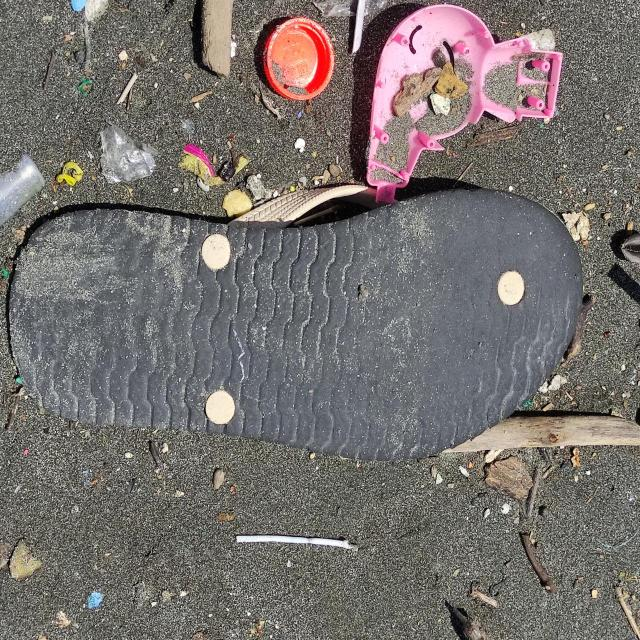plastic_waste: (263, 19, 338, 103)
rubber_waste: (8, 192, 585, 462)
